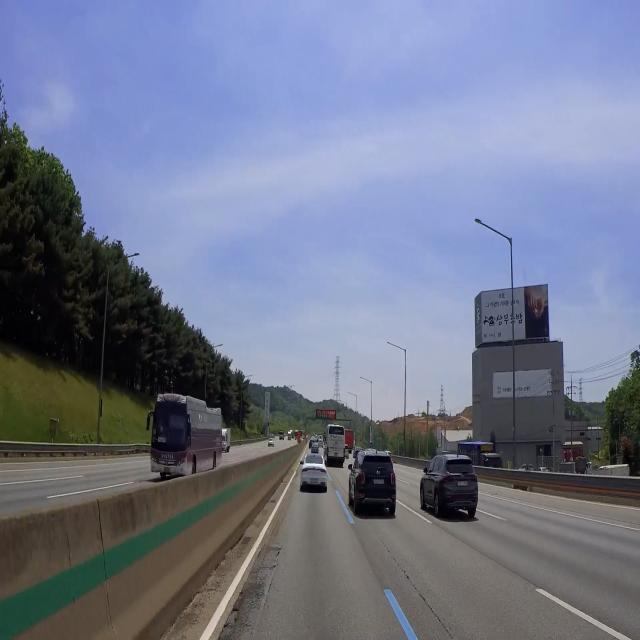car: (370, 469, 389, 495), (452, 474, 471, 495), (306, 472, 321, 491), (162, 461, 172, 478)
